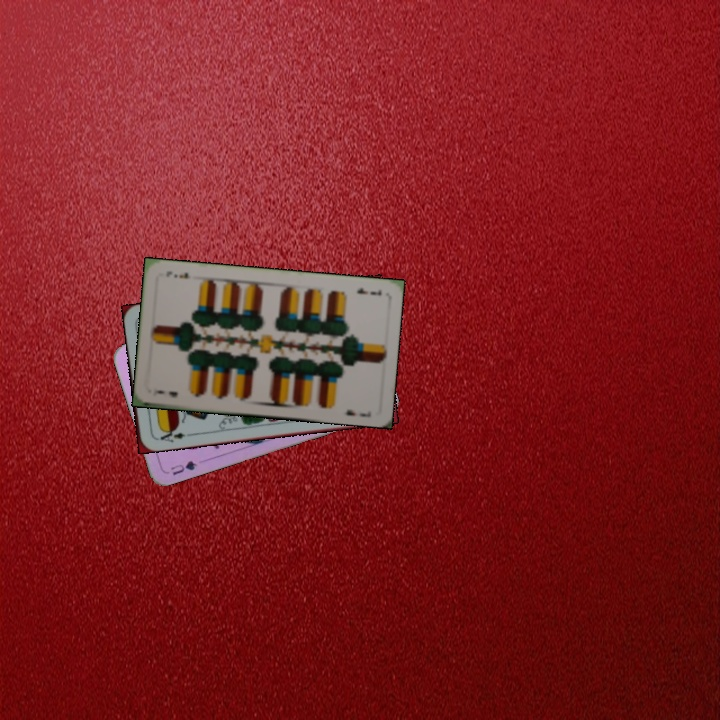E7: (149, 386, 180, 400), (353, 284, 384, 298)
EA: (153, 424, 193, 445)
GU: (167, 456, 200, 478)
